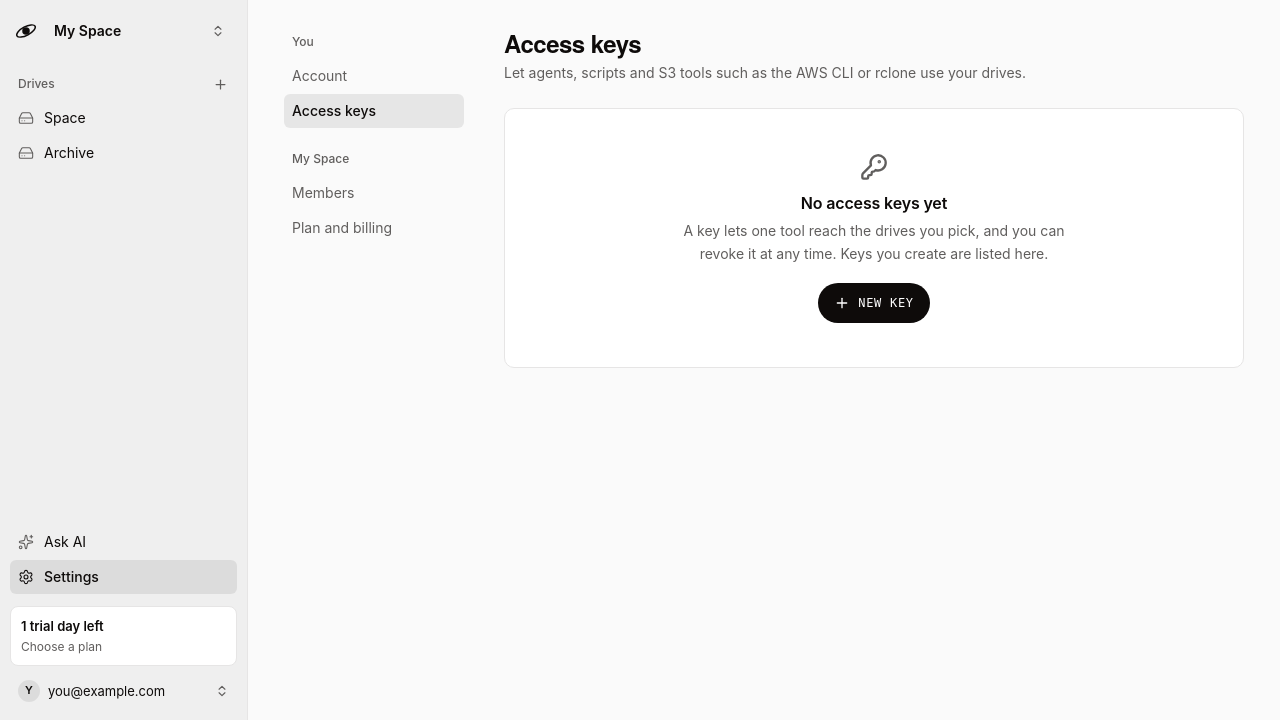
Test: requires a drive choice in a multi-drive workspace unless the user explicitly chooses all drives
This screenshot has width=1280, height=720.
Click the button "New key" at point(874, 303), box [818,283,930,323]
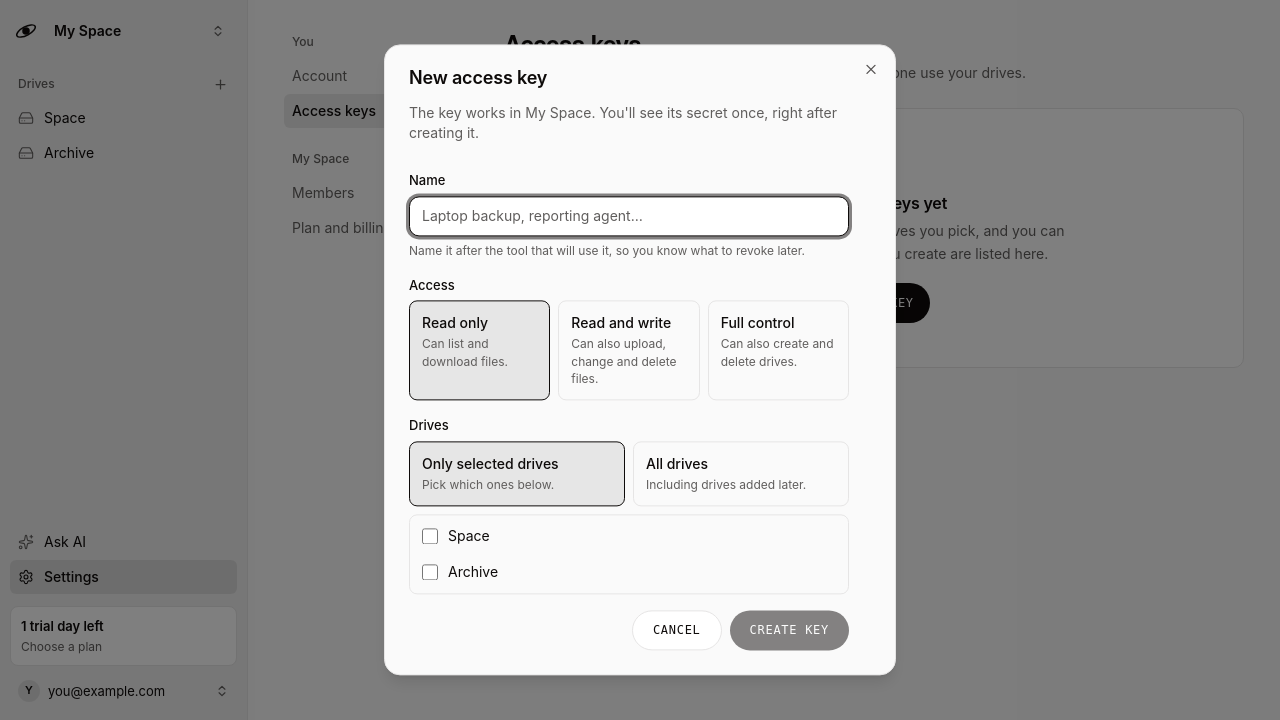
Type "Tools" into the field labelled "Name" at point(629, 216), box [409,196,849,236]
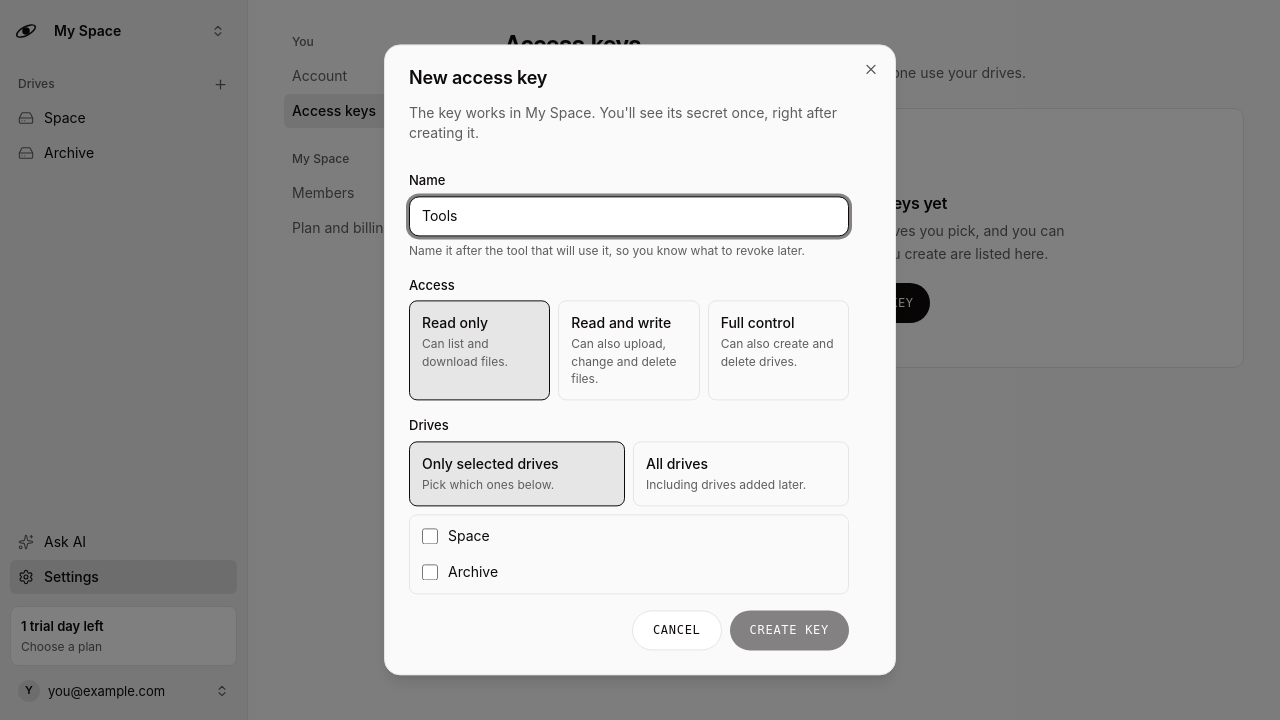
Check: the radio button labelled "Only selected drives Pick which ones below." is checked, box [409,441,625,507]
Check: the checkbox labelled "Space" is not checked, box [422,529,438,545]
Check: the checkbox labelled "Archive" is not checked, box [422,565,438,581]
Click the radio button labelled "All drives Including drives added later." at point(741, 474), box [633,441,849,507]
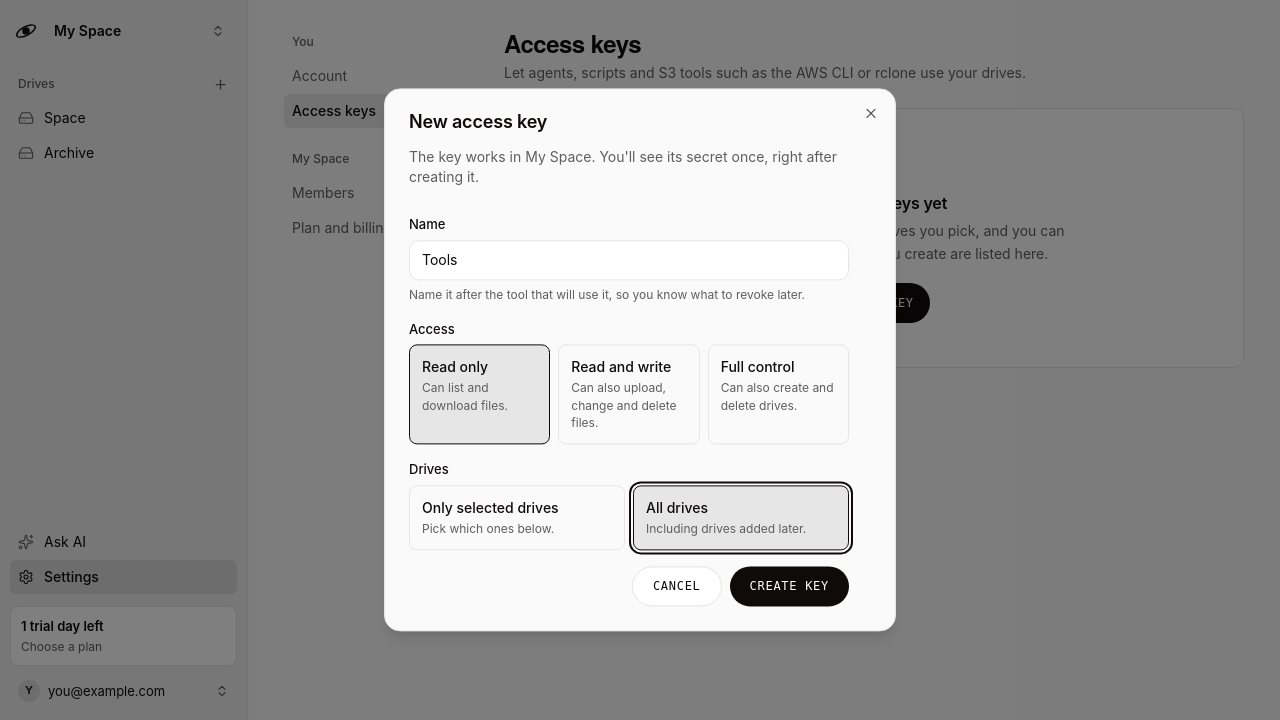
Click the button "Create key" at point(789, 587), box [730,567,849,607]
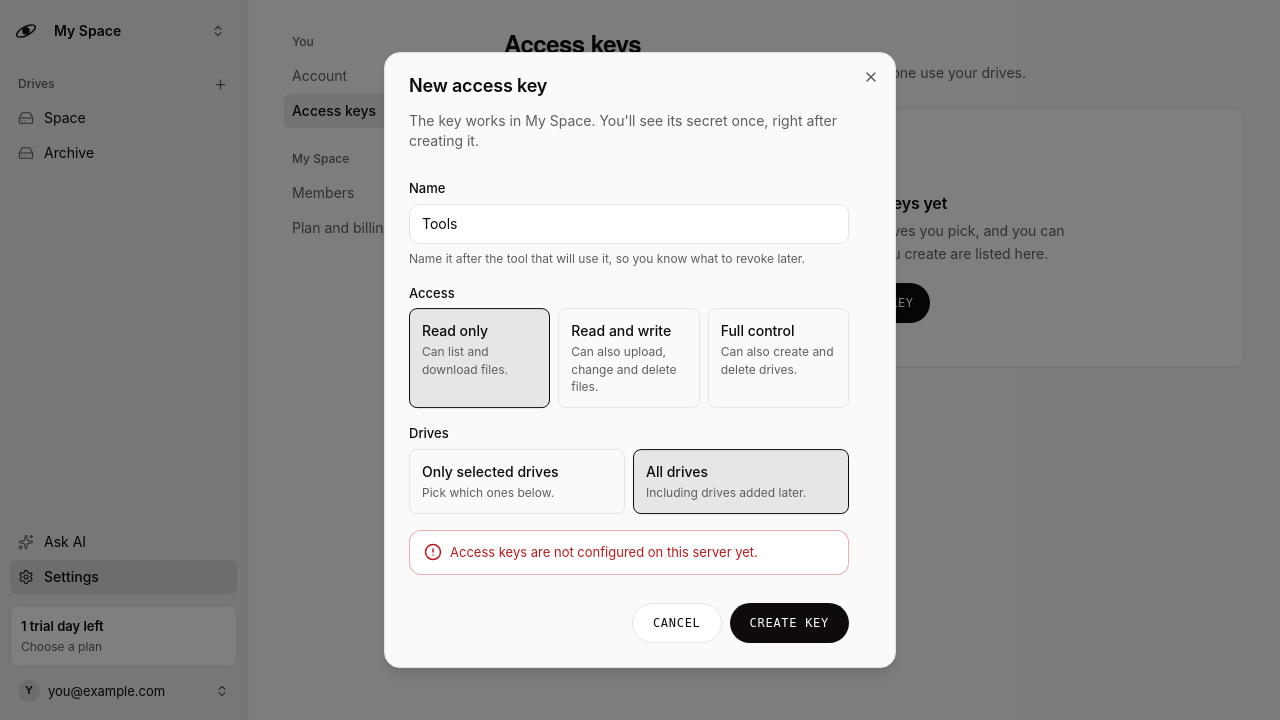
Check: the message shows "Access keys are not configured", box [450,544,758,560]
